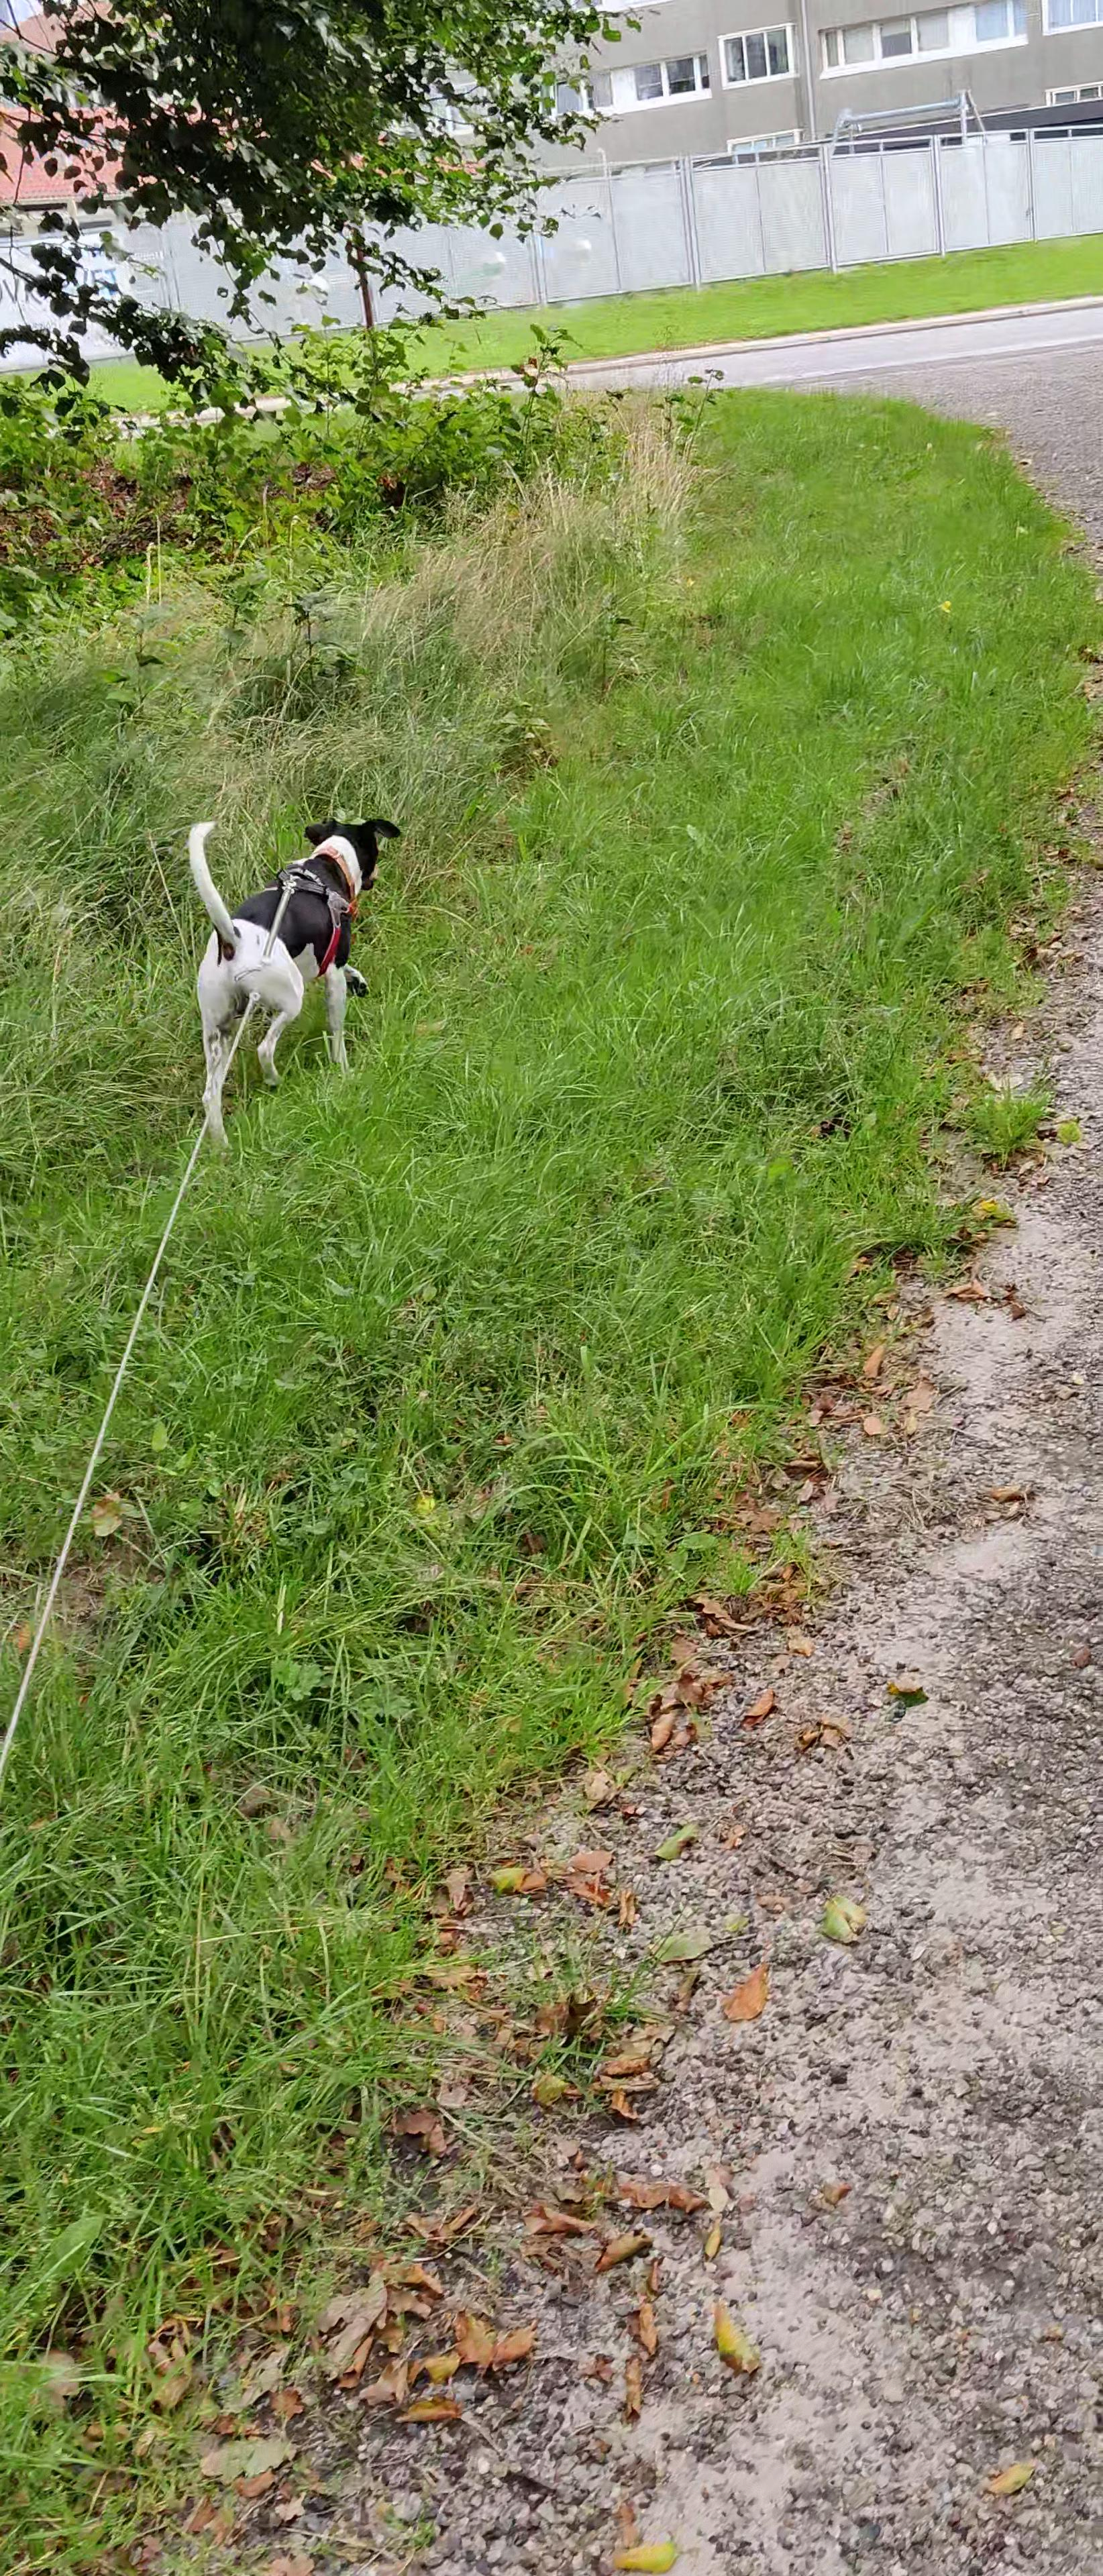Dog: (173, 808, 403, 1165)
